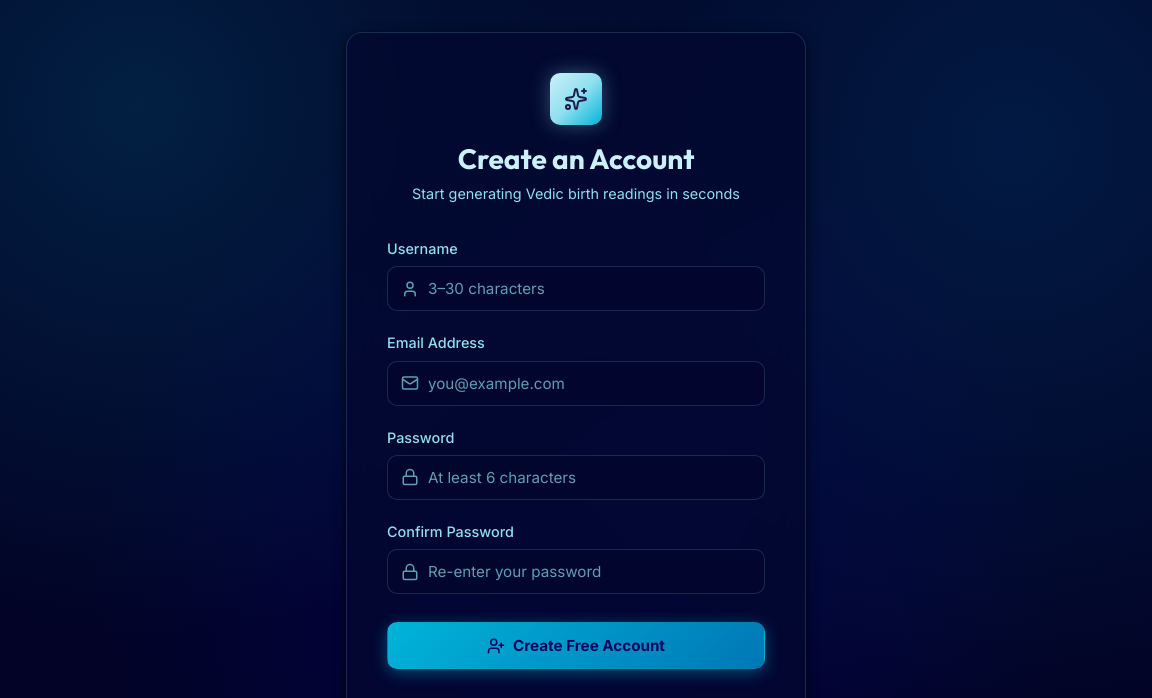
Test case: Auth Pages › validates mismatched passwords on registration
Type "testuser" into the field labelled "Username" at (576, 289), box x1=387 y1=266 x2=765 y2=311
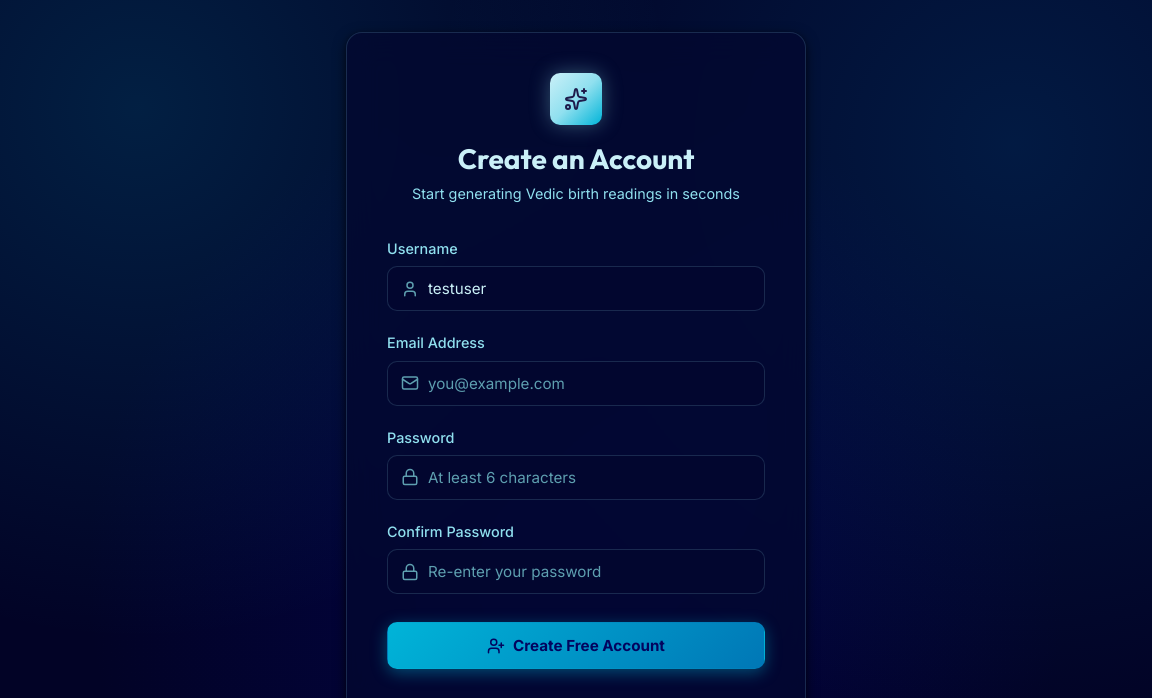
Type "test@example.com" into the field labelled "Email Address" at (576, 383), box x1=387 y1=360 x2=765 y2=406
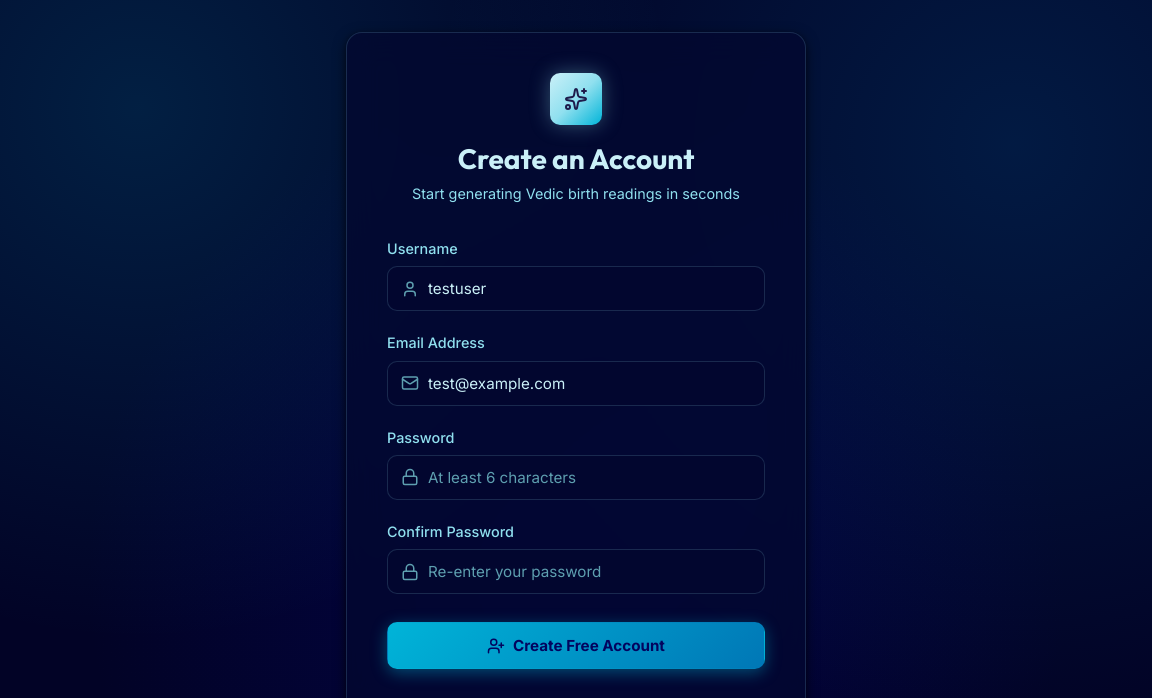
Type "password123" into the password field labelled "Password" at (576, 478), box x1=387 y1=455 x2=765 y2=500
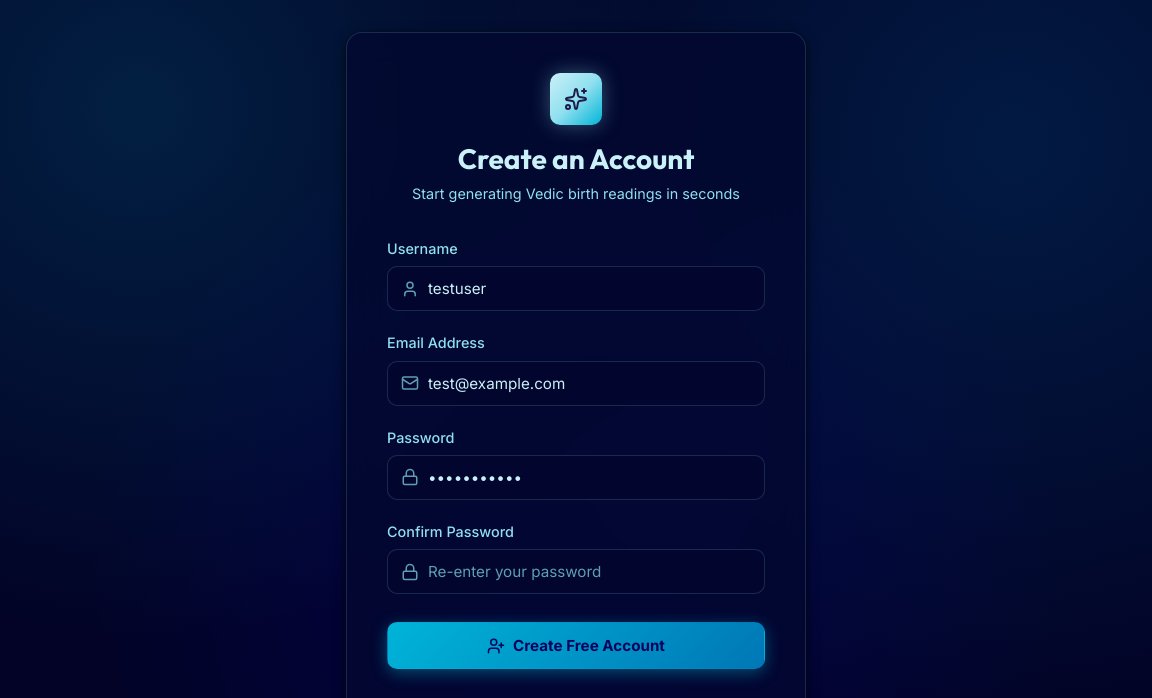
Type "password456" into the password field labelled "Confirm Password" at (576, 572), box x1=387 y1=549 x2=765 y2=594
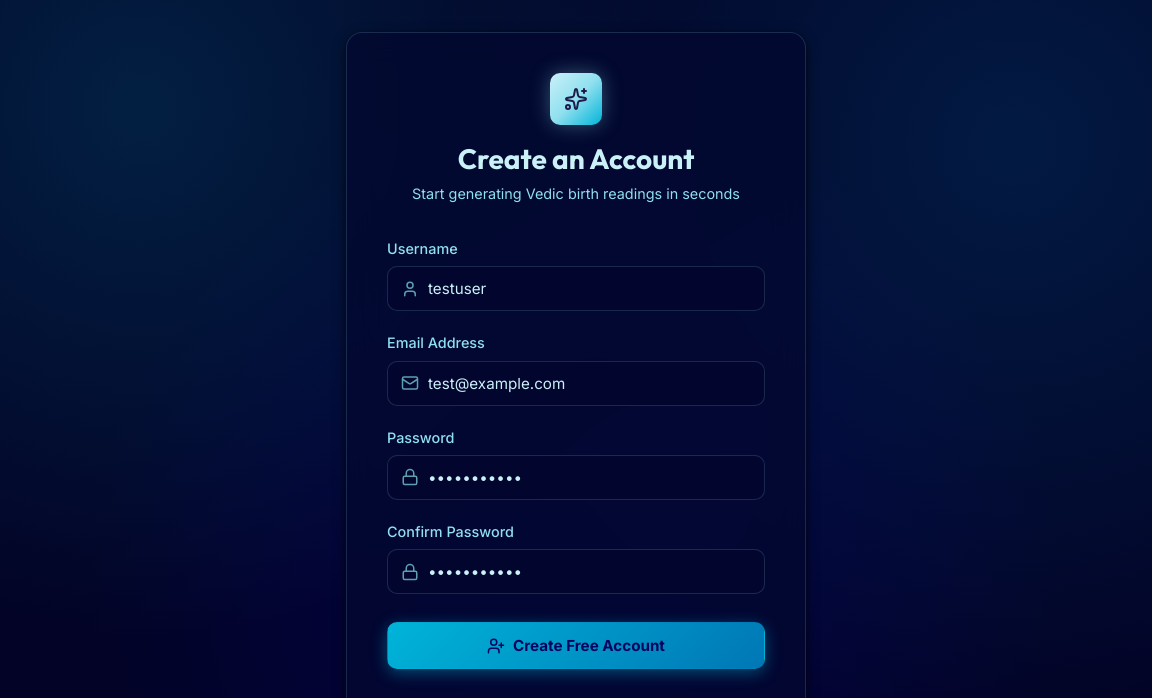
Click the button "Create Free Account" at (576, 646), box x1=387 y1=622 x2=765 y2=669
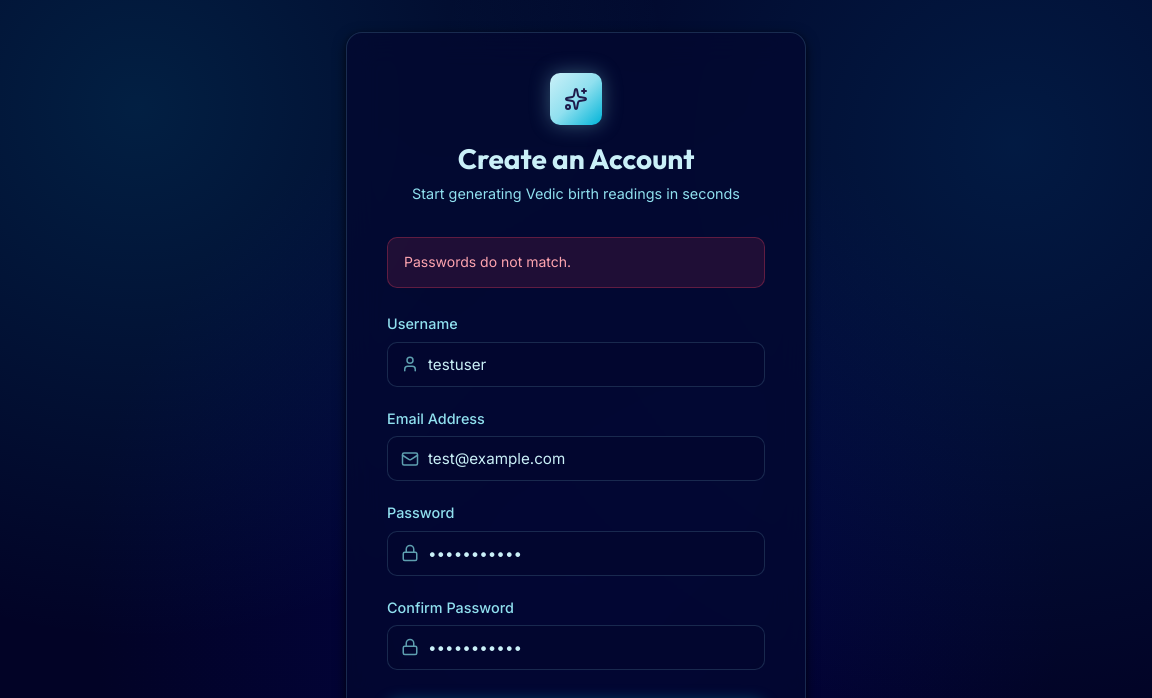
Expected: the text "Passwords do not match." is shown, x1=387 y1=237 x2=765 y2=288
